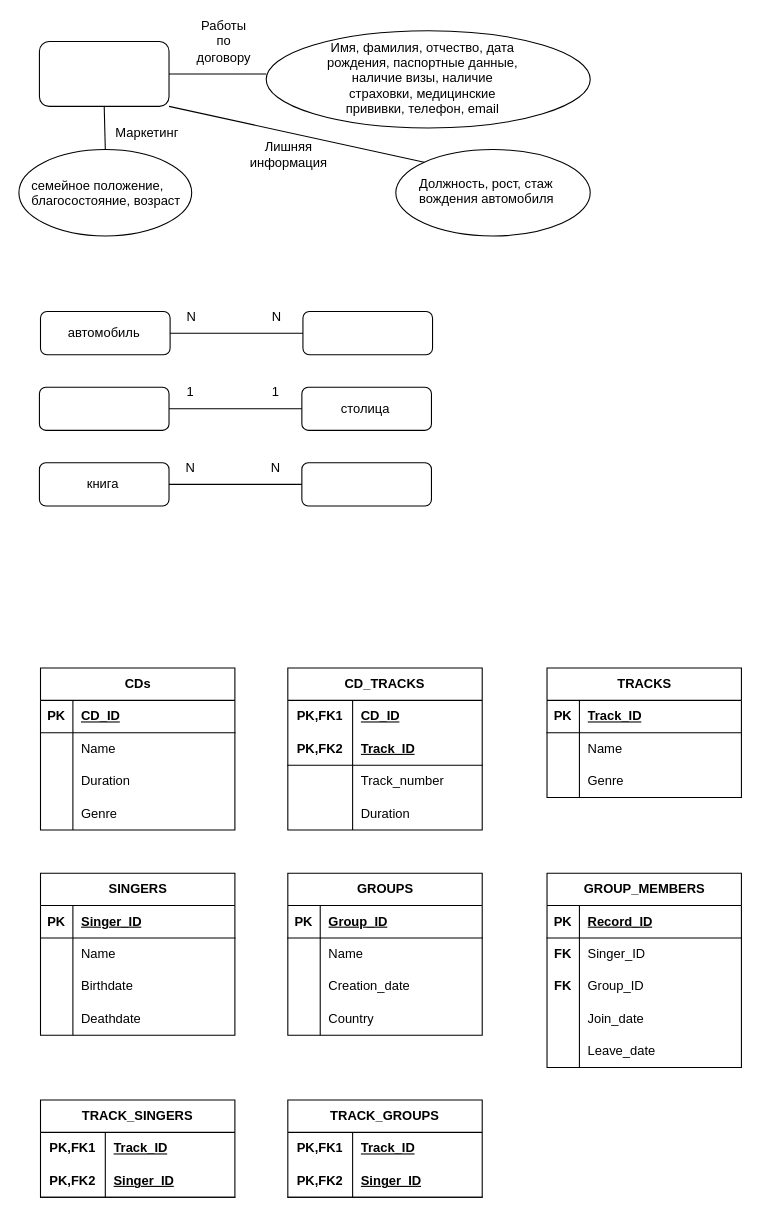
The diagram is 760 pixels wide and 1216 high, and some of its shapes have lost their labels. Each missing label, with the centre of its shape:
автовладелец: (367,332)
автор: (366,484)
страна: (103,408)
Турист: (103,73)
